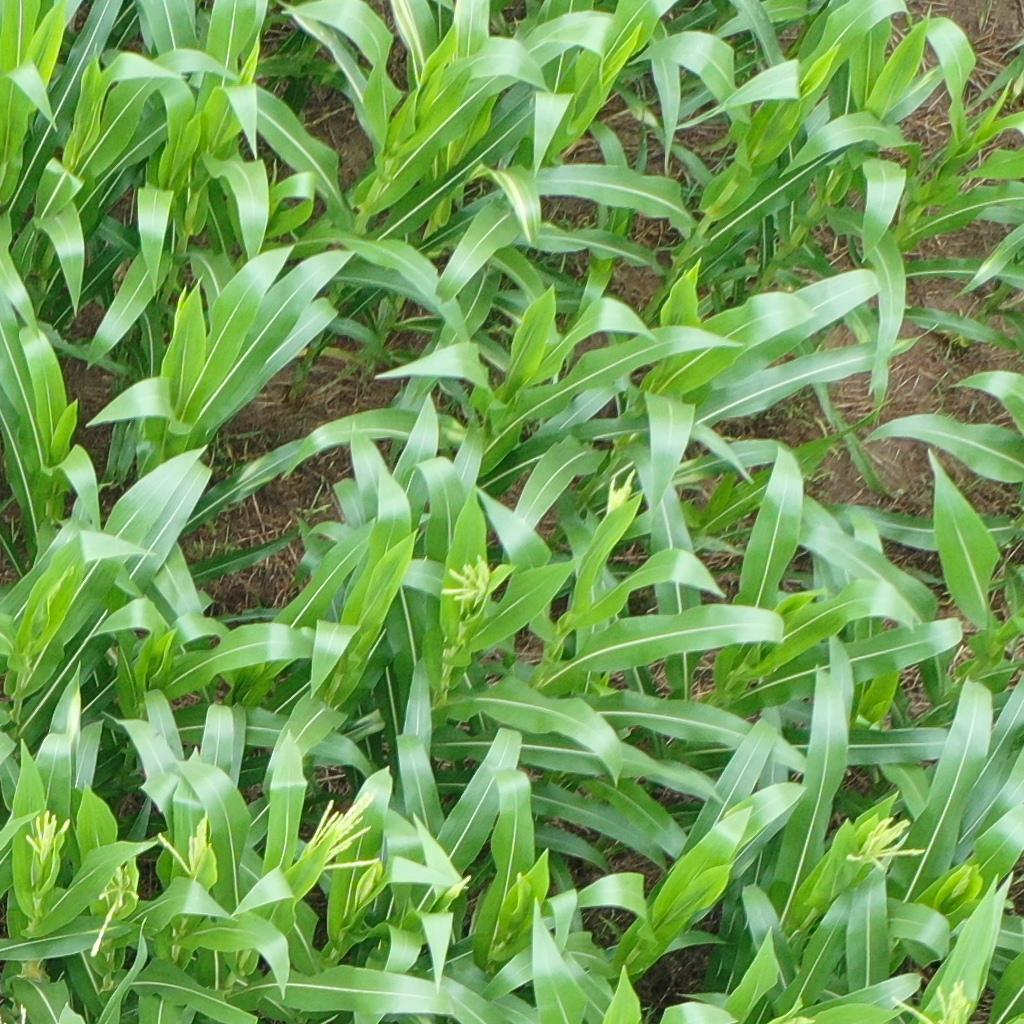Tassel: (302, 790, 386, 906), (91, 856, 140, 957), (844, 814, 925, 871), (158, 804, 214, 886), (887, 979, 979, 1024), (438, 548, 498, 614), (15, 806, 72, 871), (604, 461, 637, 518)
